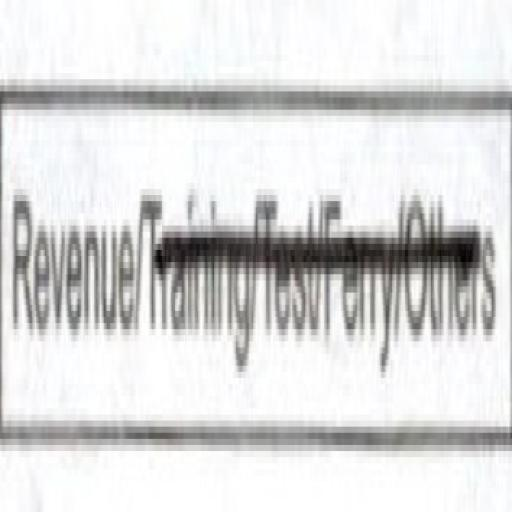check: (1, 33, 138, 481)
